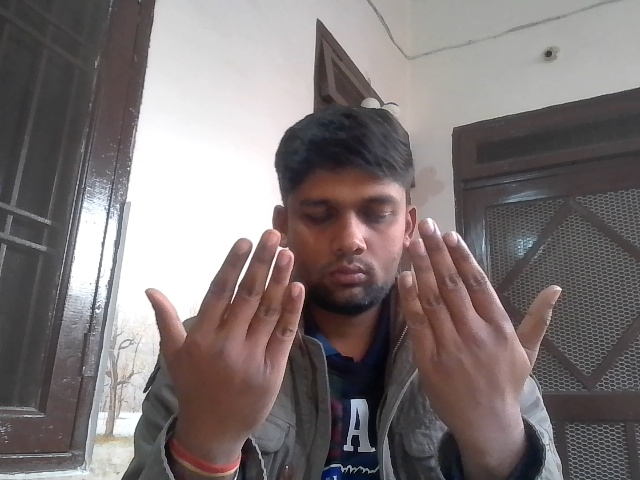ThankYou: (135, 220, 571, 445)
